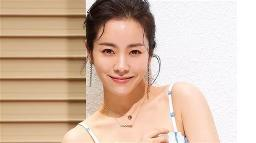face: (95, 17, 149, 96)
